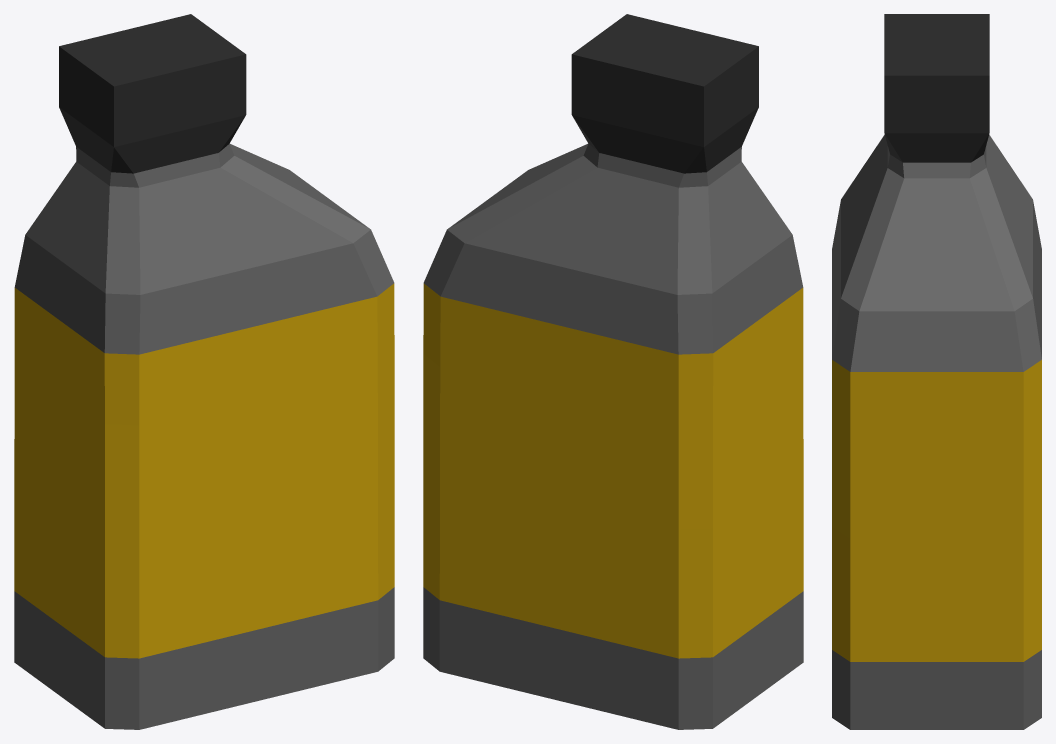
Rendered from Car Oil.fbx.
The picture shows the model from 3 angles, left to right: view 1: azimuth 30°, elevation 25°; view 2: azimuth 150°, elevation 25°; view 3: azimuth 270°, elevation 25°; orthographic projection. The views are drawn at different scales.
Visible parts, largest first — view 1: Car Oil; view 2: Car Oil; view 3: Car Oil.
Boxes of the visible parts, bbox=[...] form: Car Oil: bbox=[14, 14, 394, 729]; Car Oil: bbox=[423, 14, 803, 729]; Car Oil: bbox=[832, 14, 1041, 729].
Size of the model in its own units: 16.07 by 33.05 by 10.59.
Materials: 1 (1 with a texture image).
